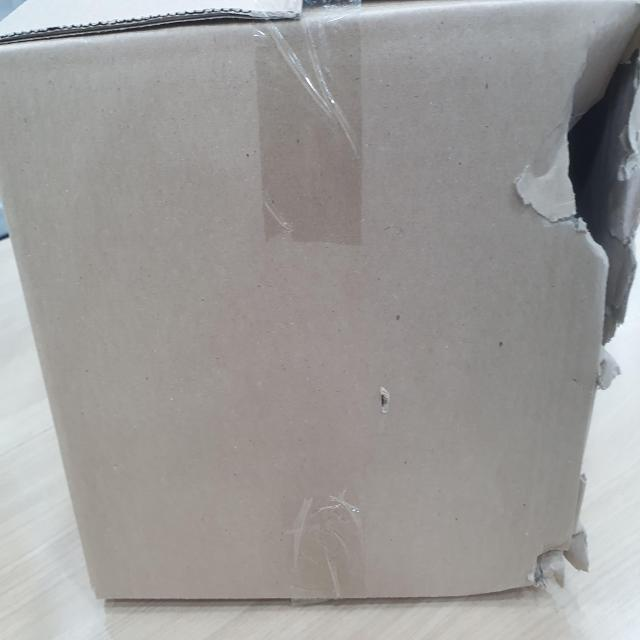damaged: (551, 6, 640, 327)
